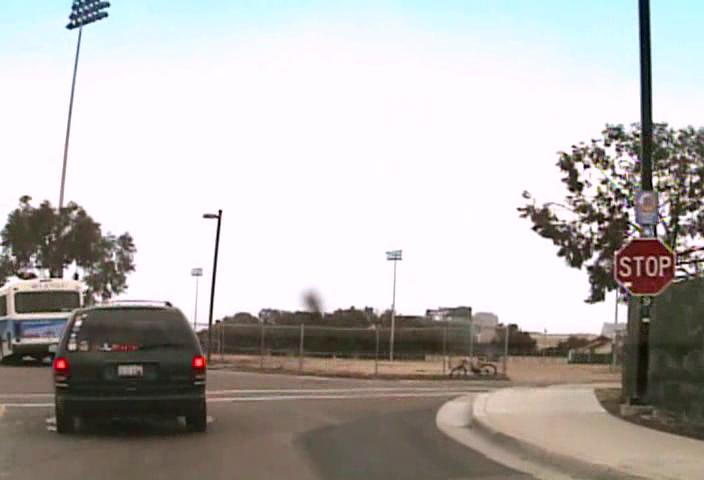stop: (614, 236, 675, 295)
